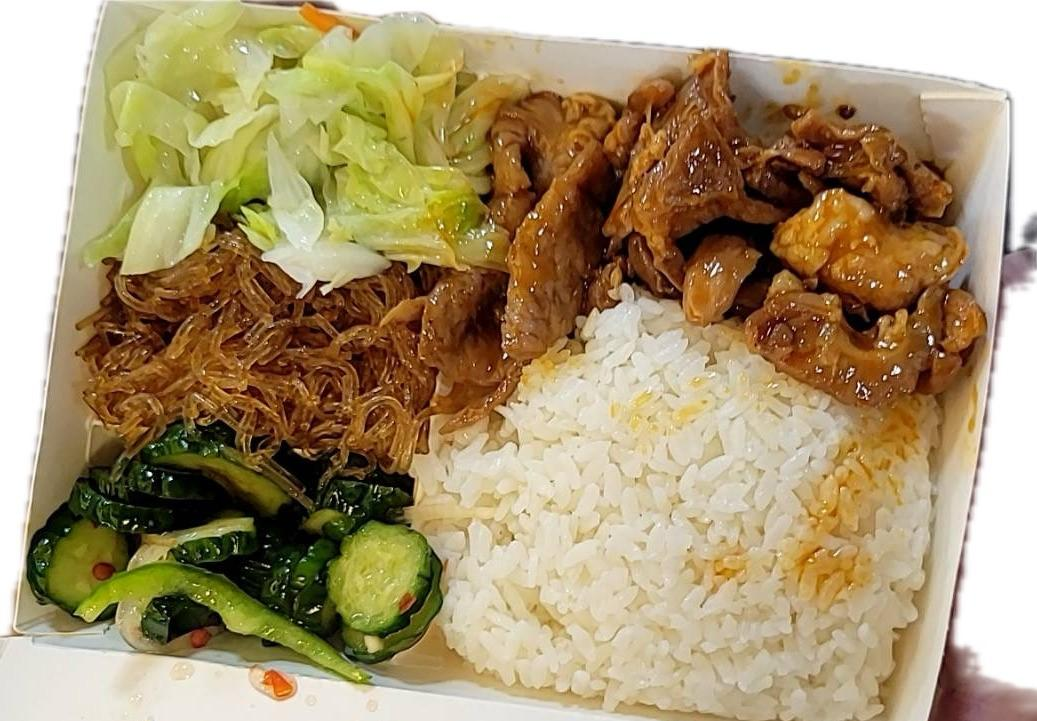big grilled chicken leg: (7, 2, 1022, 721)
big herbal chicken leg: (434, 290, 947, 712)
braised fish fillet: (97, 7, 510, 283), (27, 422, 444, 668), (90, 239, 438, 466)
braised pork: (474, 49, 985, 411)
